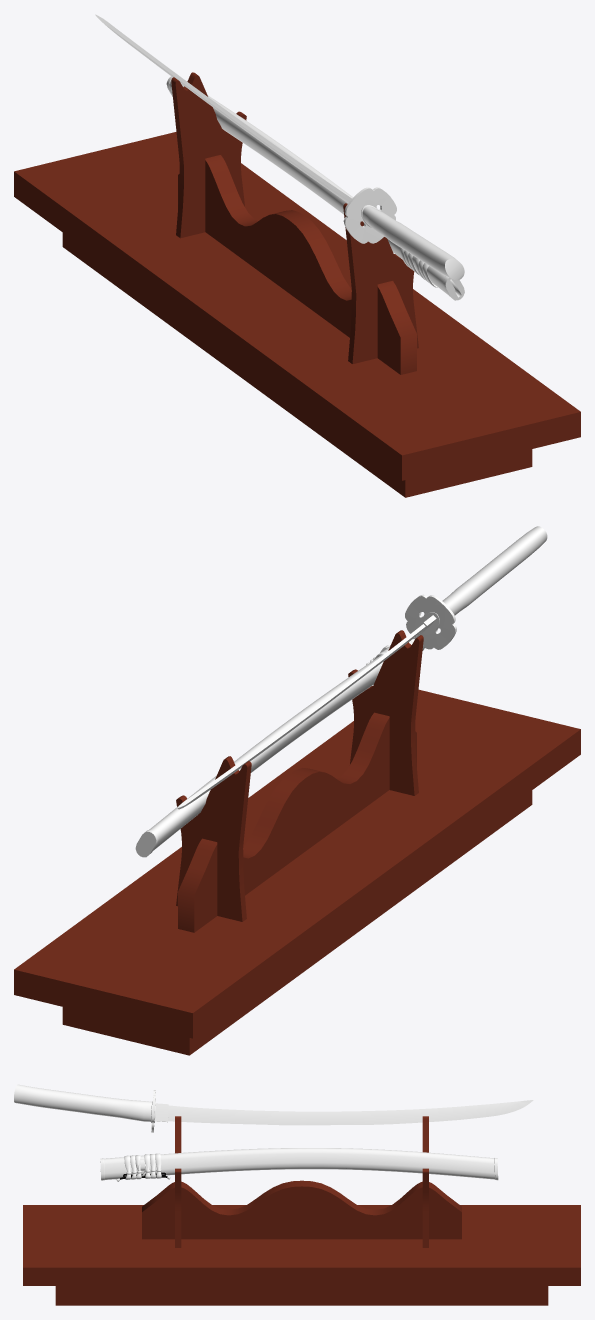
The model's file is Redy,nooverlap.fbx.
3 views of the same model, one above another, from view 1: azimuth 30°, elevation 25°; view 2: azimuth 150°, elevation 25°; view 3: azimuth 270°, elevation 25° (orthographic). The views are drawn at different scales.
Visible parts, largest first — view 1: Cube_low, stoika2_low, stoika_low, case_low, pen_low, blade_low, design_low; view 2: Cube_low, stoika2_low, stoika_low, case_low, pen_low, blade_low, design_low; view 3: Cube_low, stoika2_low, case_low, blade_low, pen_low, stoika_low, ropes_low.
Boxes of the visible parts, box(x1,y1,x2,y2) form: Cube_low: box(14, 132, 580, 497); stoika2_low: box(178, 155, 416, 374); stoika_low: box(171, 72, 418, 364); case_low: box(166, 76, 464, 300); pen_low: box(361, 205, 464, 280); blade_low: box(95, 14, 351, 203); design_low: box(343, 187, 396, 243); Cube_low: box(14, 689, 580, 1055); stoika2_low: box(178, 712, 416, 932); stoika_low: box(176, 630, 423, 921); case_low: box(135, 639, 424, 857); pen_low: box(442, 526, 547, 615); blade_low: box(177, 624, 425, 809); design_low: box(405, 594, 456, 649); Cube_low: box(23, 1205, 580, 1305); stoika2_low: box(142, 1180, 461, 1239); case_low: box(100, 1148, 498, 1180); blade_low: box(168, 1100, 533, 1125); pen_low: box(14, 1084, 152, 1122); stoika_low: box(175, 1116, 428, 1247); ropes_low: box(124, 1153, 161, 1179).
Bounding box in the file's own units: 1476 × 2001 × 5634.
